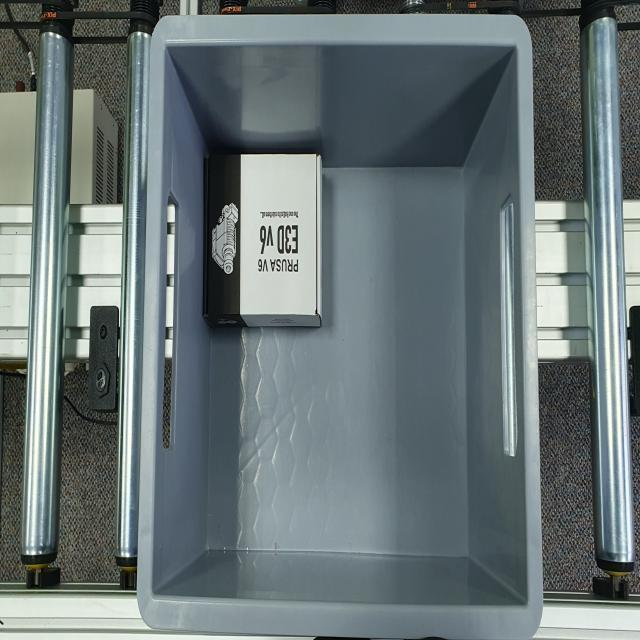box: (202, 151, 324, 329)
